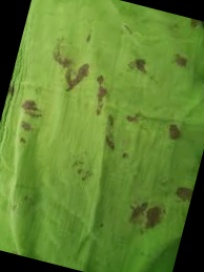blood: (45, 51, 92, 97), (127, 198, 165, 234), (90, 73, 113, 118), (19, 97, 44, 120), (127, 53, 150, 75), (165, 122, 184, 143), (174, 184, 193, 202), (172, 53, 189, 69), (103, 136, 119, 152), (107, 117, 115, 128)
